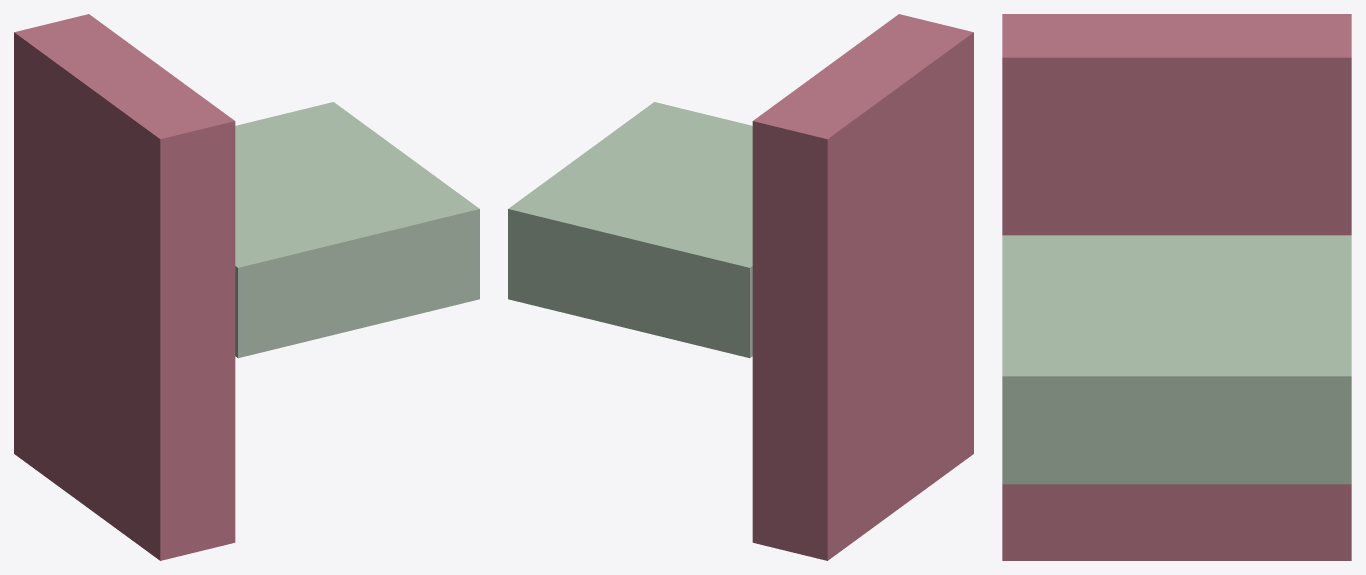
File: 199537_pred.glb
The picture shows the model from 3 angles, left to right: view 1: azimuth 30°, elevation 25°; view 2: azimuth 150°, elevation 25°; view 3: azimuth 270°, elevation 25°; orthographic projection. The views are drawn at different scales.
Parts seen in each view (by area): view 1: world; view 2: world; view 3: world.
Part boxes in pixels (x1,y1,x2,y2): world: [14, 14, 479, 560]; world: [508, 14, 973, 560]; world: [1002, 14, 1351, 560].
Bounding box in the file's own units: 5.55 × 7 × 4.4.
